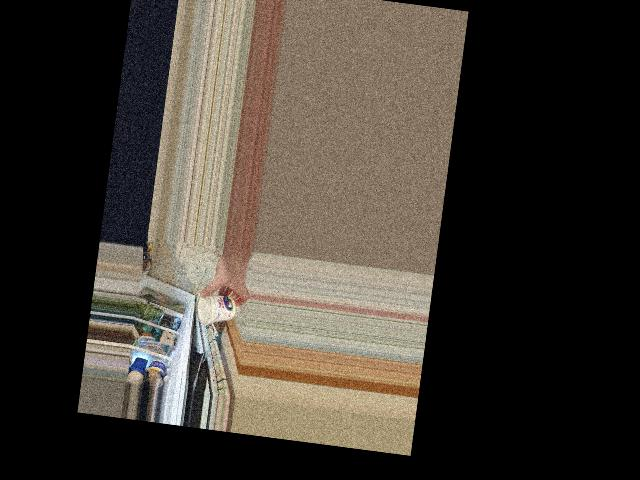cotage: (194, 286, 239, 329)
